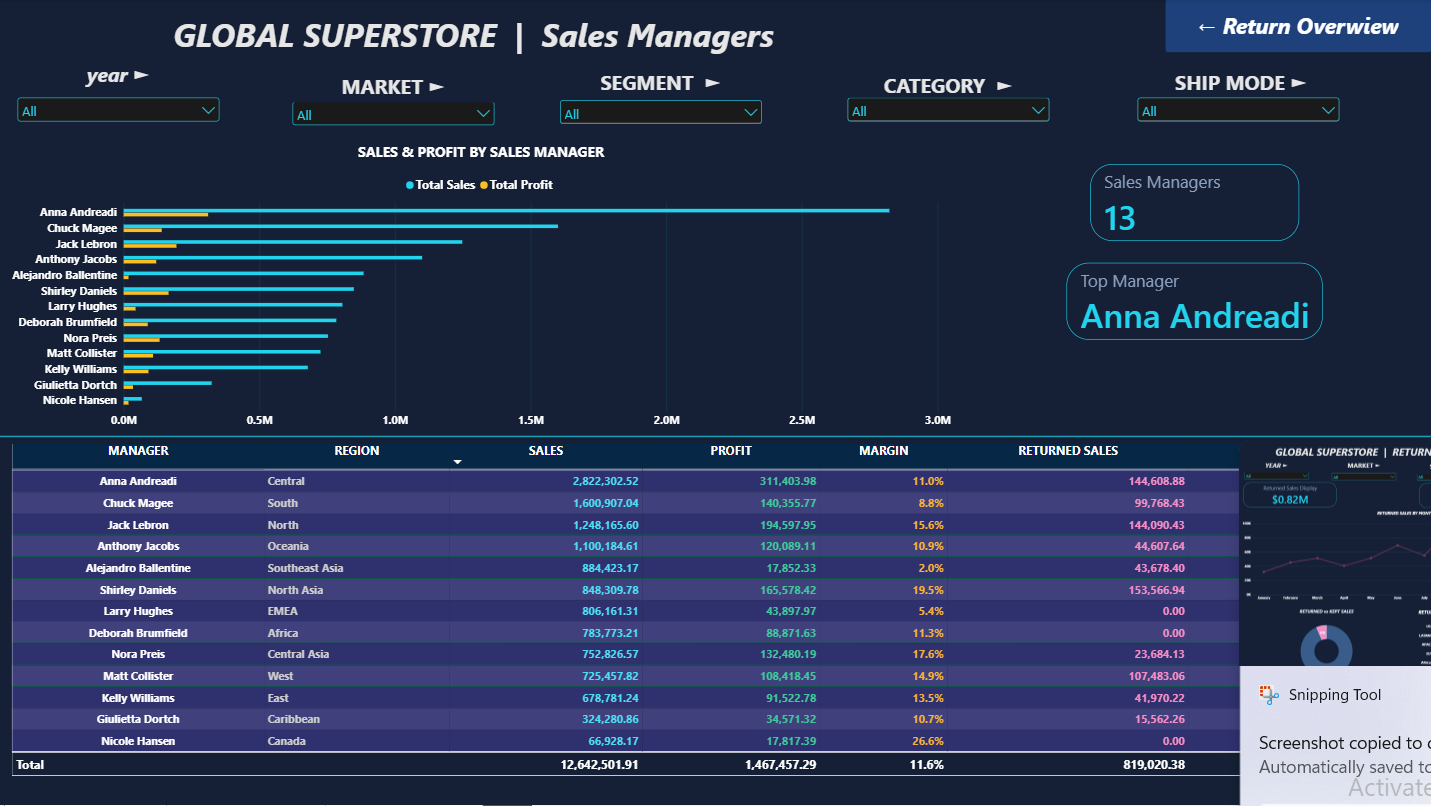

What the dashboard file says about the page in this screenshot:
{"tool":"powerbi","page":{"name":"Sales Managers","canvas":[1920,1080],"ordinal":2},"visuals":[{"type":"cardVisual","fields":{"Data":["_measures.Sales Mangment"]},"box":[1461.7,221.7,280,103.3],"z":0},{"type":"cardVisual","fields":{"Data":["_measures.Top Manager"]},"box":[1430,353.3,343.3,103.3],"z":1000},{"type":"textbox","box":[0,0,1271.7,98.3],"z":2000},{"type":"slicer","fields":{"Values":["Data.Year"]},"box":[20,126.7,280,51.7],"z":3000},{"type":"slicer","fields":{"Values":["Data.Market"]},"box":[388.3,131.7,280,50],"z":4000},{"type":"slicer","fields":{"Values":["Data.Category"]},"box":[1131.7,126.7,280,51.7],"z":5000},{"type":"slicer","fields":{"Values":["Data.Ship Mode"]},"box":[1521.7,126.7,280,51.7],"z":6000},{"type":"slicer","fields":{"Values":["Data.Segment"]},"box":[746.7,130,280,48.3],"z":7000},{"type":"actionButton","box":[1563.3,0,356.7,71.7],"z":8000},{"type":"textbox","box":[20,81.7,280,48.3],"z":9000},{"type":"textbox","box":[388.3,98.3,280,40],"z":10000},{"type":"textbox","box":[746.7,93.3,280,38.3],"z":11000},{"type":"textbox","box":[1131.7,96.7,280,35],"z":12000},{"type":"textbox","box":[1521.7,93.3,280,36.7],"z":13000},{"type":"clusteredBarChart","title":"SALES & PROFIT BY SALES MANAGER","fields":{"Category":["People.Person","People.Region"],"Y":["_measures.Total Sales","_measures.Total Profit"]},"box":[0,178.3,1291.7,418.3],"z":14000},{"type":"tableEx","fields":{"Values":["People.Person","People.Region","_measures.Total Sales","_measures.Total Profit","_measures.Profit Margin","_measures.Returned Sales","_measures.Return Rate"]},"box":[0,575,1920,505],"z":15000},{"type":"shape","box":[0,576.7,1920,20],"z":15002}]}

Visuals, with their boxes in screenshot pixels (x1, y1, x2, y2), scaled from the page's 1920x1080 canvas onto the 1431x806 screenshot:
cardVisual - _measures.Sales Mangment: locate(1089, 165, 1298, 243)
cardVisual - _measures.Top Manager: locate(1066, 264, 1322, 341)
textbox: locate(0, 0, 948, 73)
slicer - Data.Year: locate(15, 95, 224, 133)
slicer - Data.Market: locate(289, 98, 498, 136)
slicer - Data.Category: locate(843, 95, 1052, 133)
slicer - Data.Ship Mode: locate(1134, 95, 1343, 133)
slicer - Data.Segment: locate(557, 97, 765, 133)
actionButton: locate(1165, 0, 1430, 54)
textbox: locate(15, 61, 224, 97)
textbox: locate(289, 73, 498, 103)
textbox: locate(557, 70, 765, 98)
textbox: locate(843, 72, 1052, 98)
textbox: locate(1134, 70, 1343, 97)
"SALES & PROFIT BY SALES MANAGER" clusteredBarChart: locate(0, 133, 963, 445)
tableEx - People.Person x People.Region: locate(0, 429, 1430, 805)
shape: locate(0, 430, 1430, 445)
